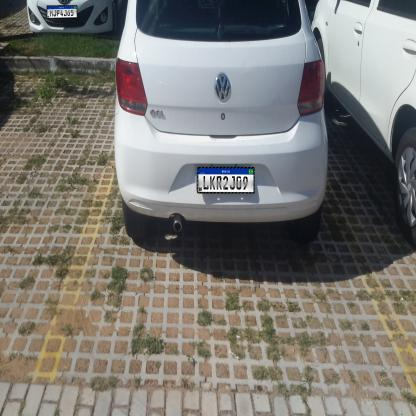PlacaM: (197, 167, 254, 193), (47, 5, 77, 19), (56, 9, 74, 16)
